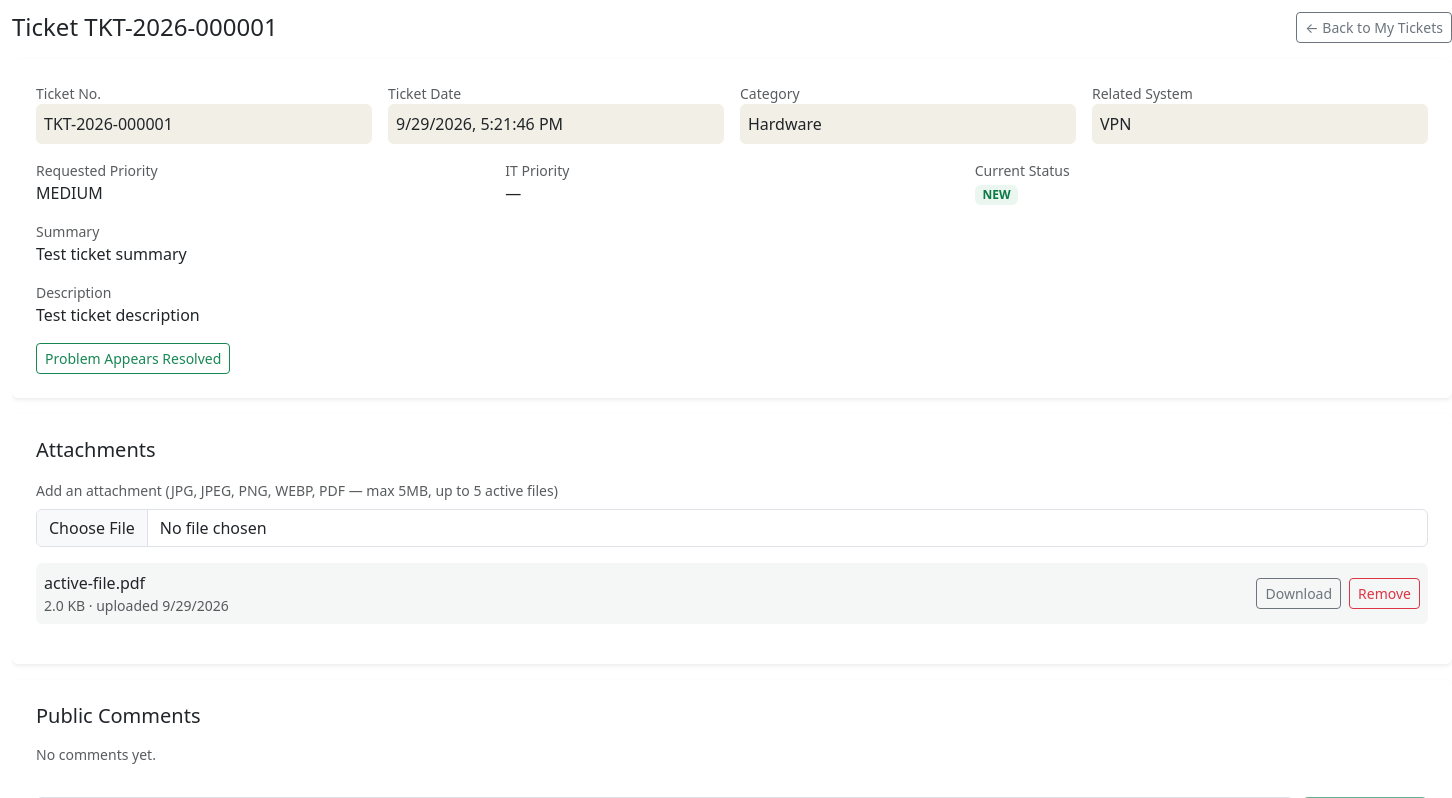
Test: TicketDetail › requires a reason before confirming attachment removal (BR-28)
Expected: the text "active-file.pdf" is shown, [44,572,145,594]
Click the button "Remove": {"x": 1385, "y": 594} [1349,578,1420,609]
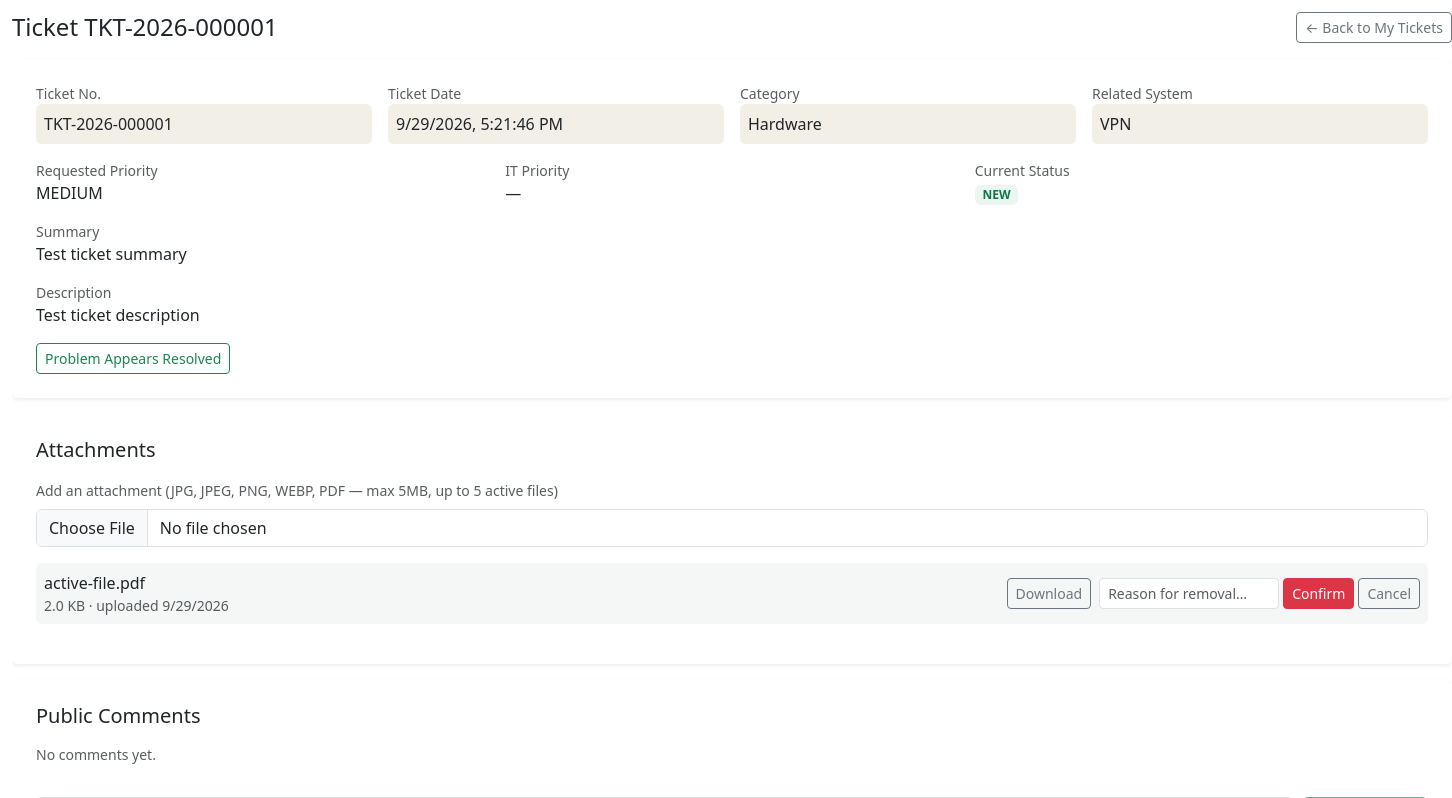
Click the button "Confirm": {"x": 1319, "y": 594} [1283,578,1354,609]
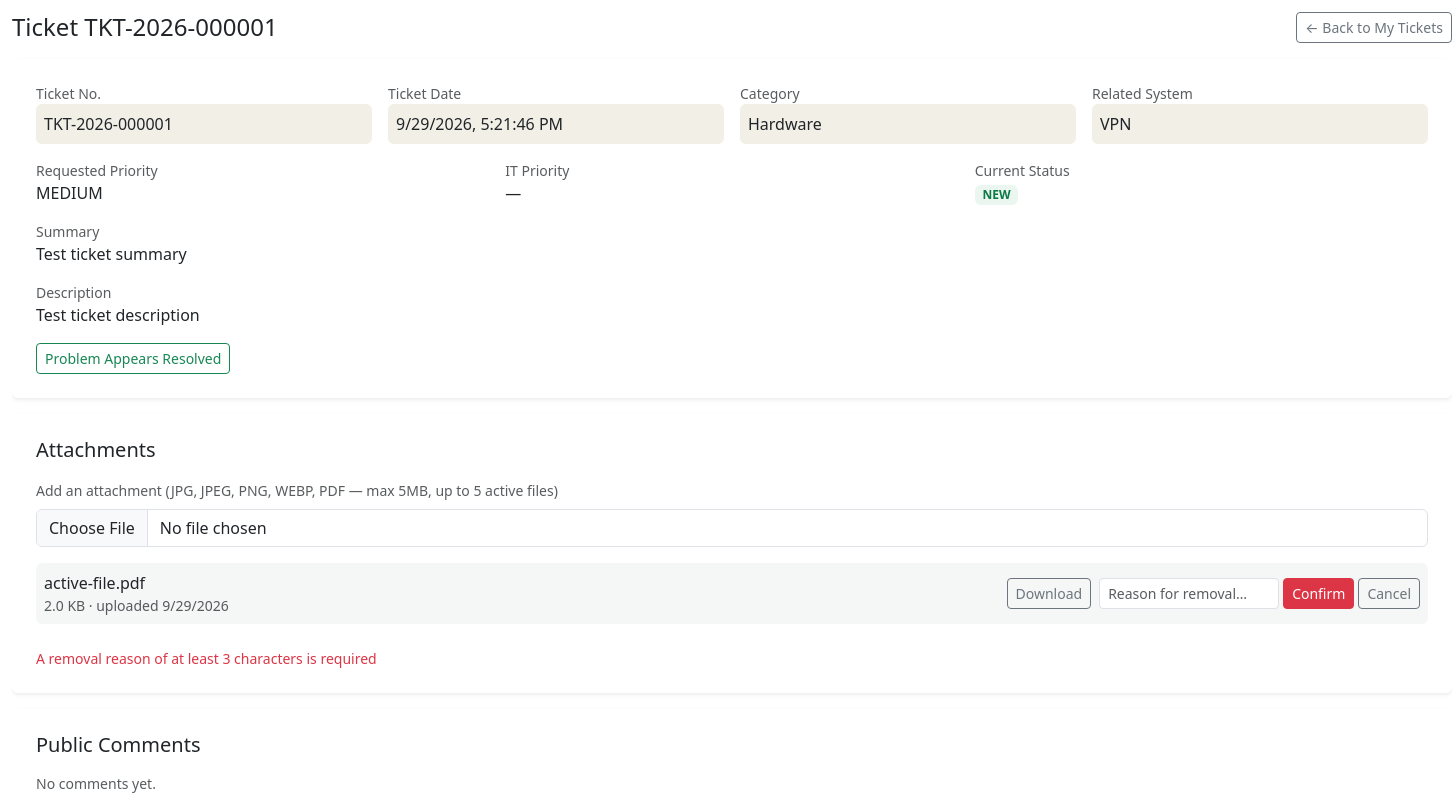
Expected: the text "A removal reason of at least 3 characters is required" is shown, [36,649,377,668]
